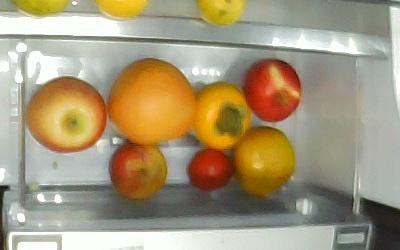apple: (25, 75, 107, 154), (242, 57, 302, 122)
grapefruit: (104, 56, 197, 145)
persimmon: (229, 124, 295, 197), (189, 80, 251, 150)
prune: (107, 138, 168, 200), (185, 147, 233, 191)
